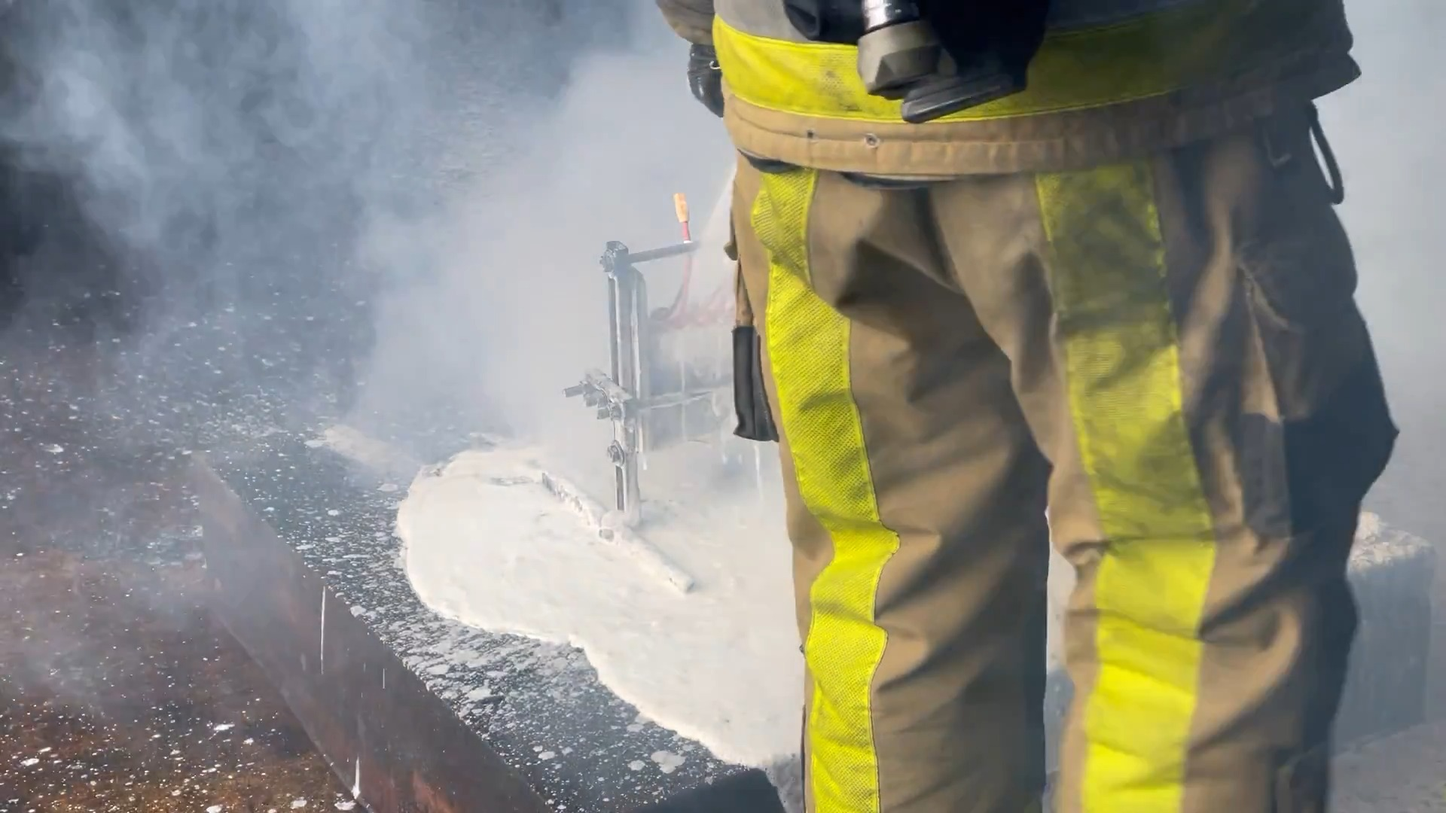smoke: (0, 0, 664, 429)
